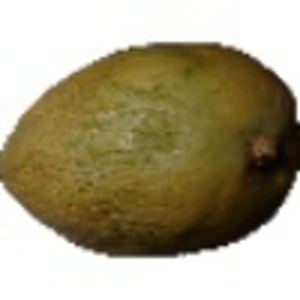mamão: (1, 35, 295, 268)
